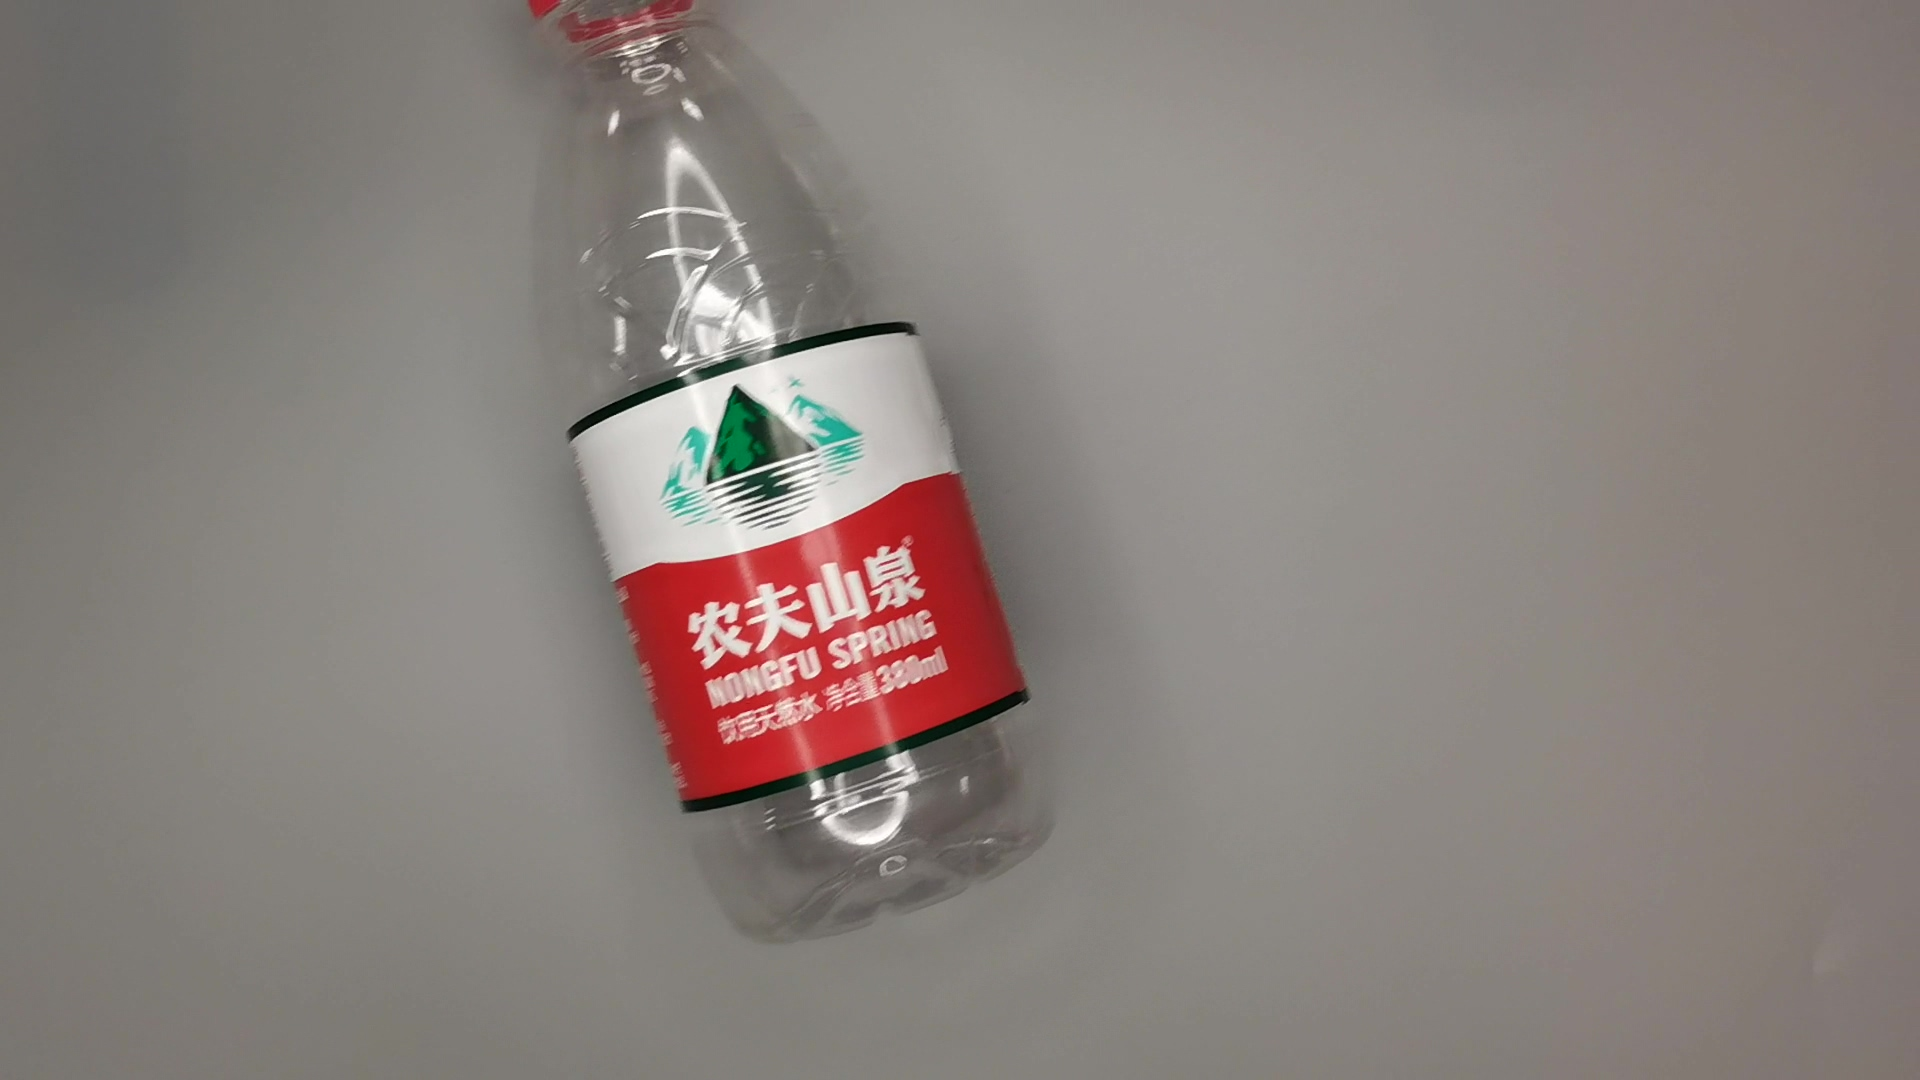bottle: (506, 1, 1069, 956)
